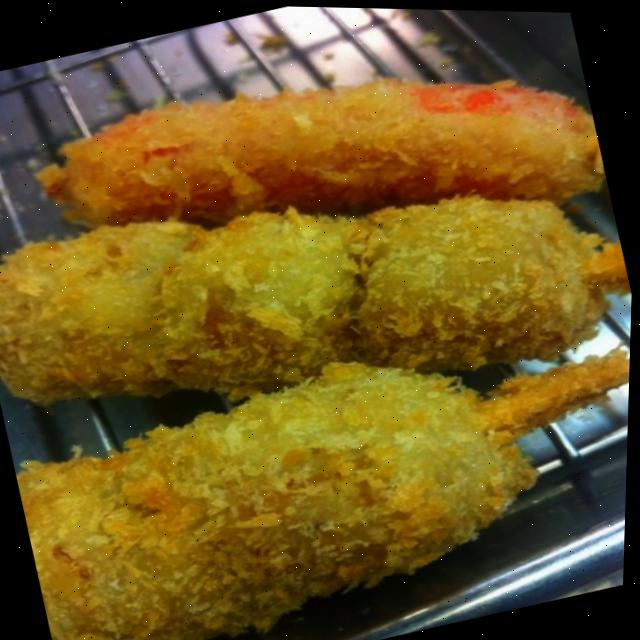米饭主食: (74, 22, 614, 640), (342, 6, 640, 499)
